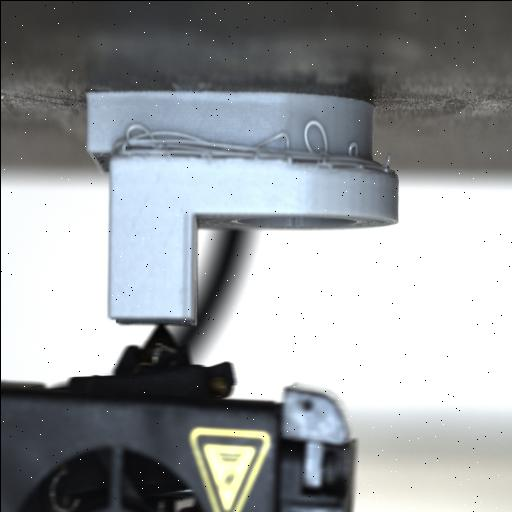layer_shift: (86, 147, 394, 177)
